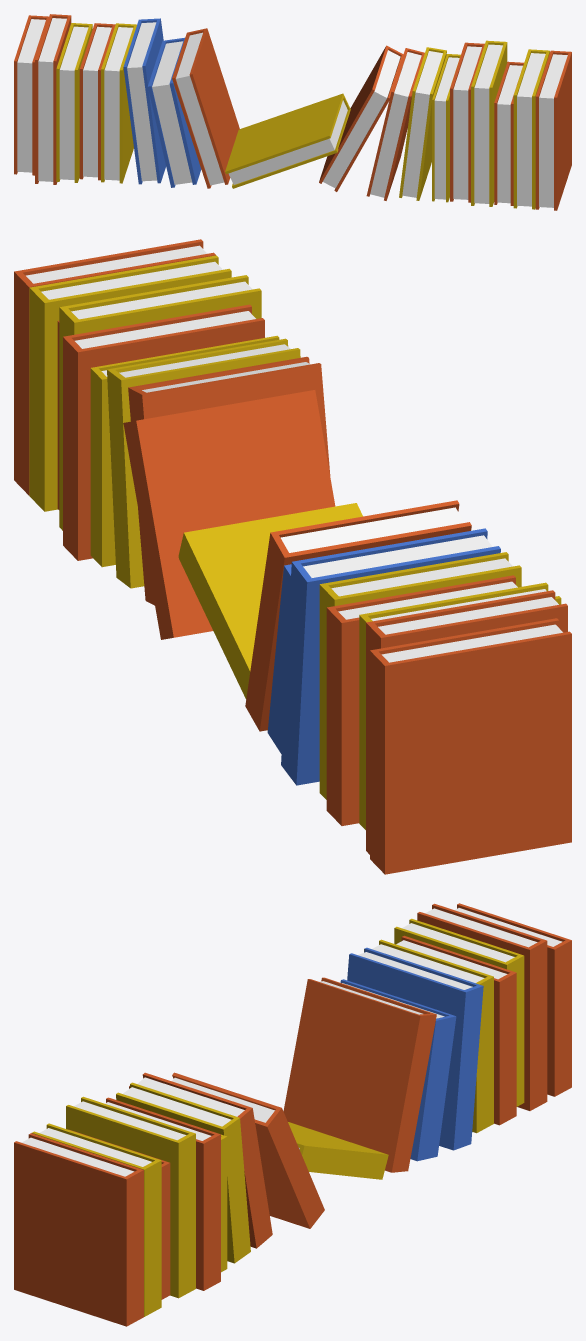
File: books.glb
3 renders of one model, top to bottom at view 1: azimuth 30°, elevation 25°; view 2: azimuth 150°, elevation 25°; view 3: azimuth 270°, elevation 25°, orthographic. The views are drawn at different scales.
Visible parts, largest first — view 1: Book.001; view 2: Book.001; view 3: Book.001.
Part boxes in pixels (x1=…): Book.001: x1=14, y1=14, x2=571, y2=210; Book.001: x1=14, y1=239, x2=571, y2=874; Book.001: x1=14, y1=903, x2=571, y2=1326.
Bounding box in the file's own units: 0.187 × 0.0514 × 0.1613.
